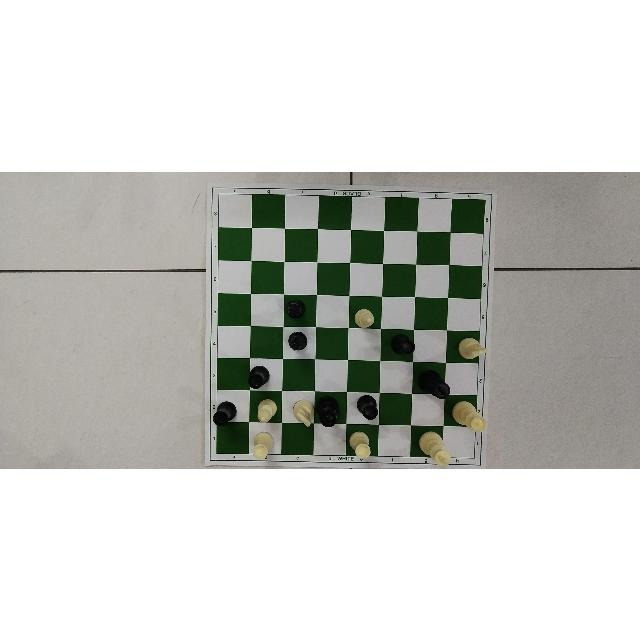black-bishop: (287, 330, 310, 350), (285, 298, 305, 320)
black-king: (416, 369, 451, 399)
black-queen: (316, 393, 340, 426)
black-rook: (213, 400, 236, 426), (247, 363, 270, 388), (391, 332, 416, 354), (357, 394, 379, 419)
white-bishop: (256, 398, 277, 421), (353, 308, 374, 328)
white-king: (418, 430, 451, 466)
white-knight: (457, 336, 488, 360), (291, 398, 315, 426)
white-queen: (452, 399, 486, 433)
white-rook: (251, 431, 274, 459), (349, 430, 371, 458)
